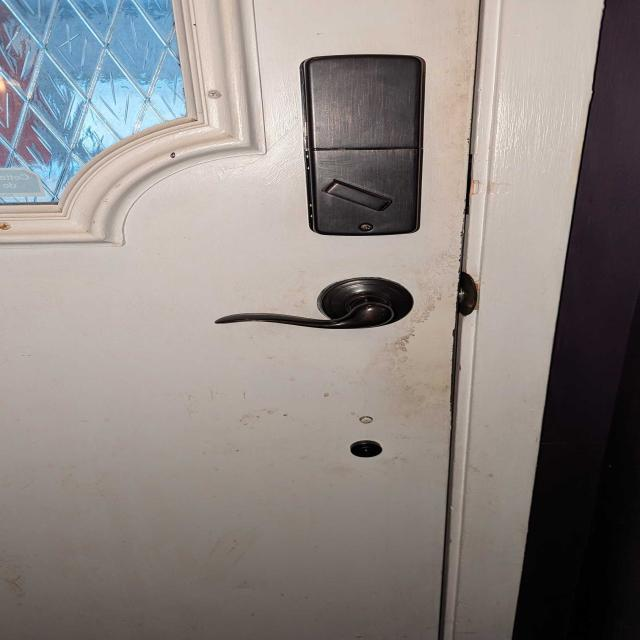door-handle: (216, 278, 413, 329)
